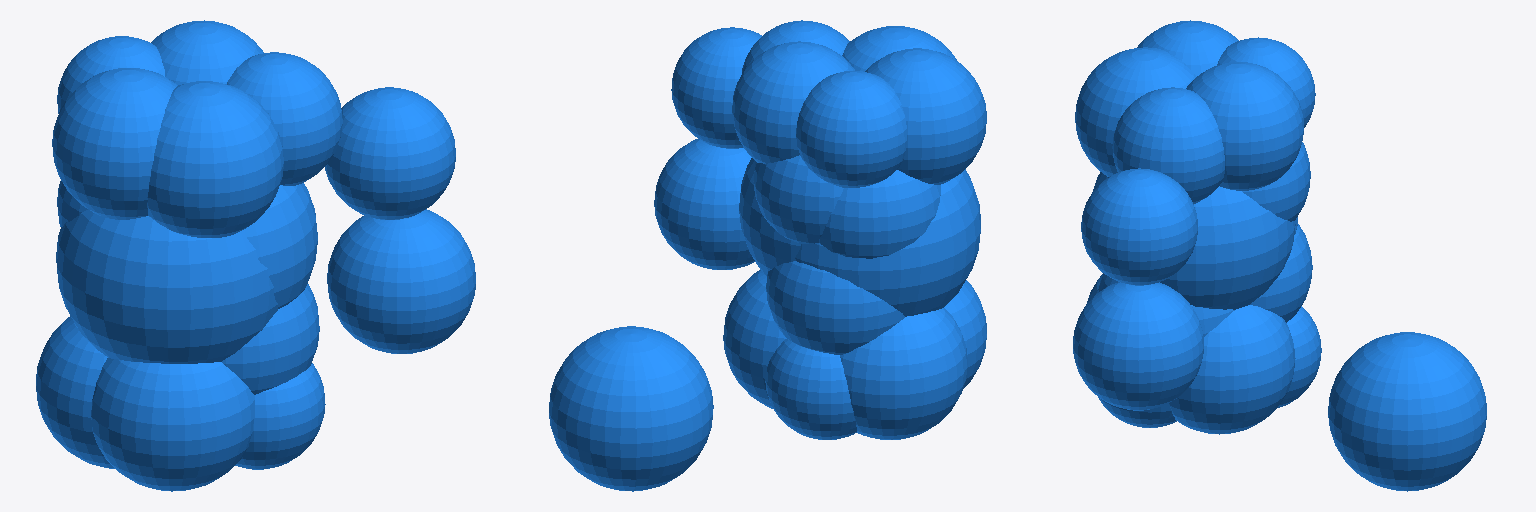
The robot description file, URDF, robot "frother":
<?xml version="1.0"?>
<robot name="frother">
  <!-- morphit:centroid -0.023923 -0.025105 0.073169 -->
  <material name="default_color">
    <color rgba="0.200000 0.600000 1.000000 1.000000"/>
  </material>
  <link name="base">
    <inertial>
      <mass value="0.001000"/>
      <inertia ixx="0.000010" ixy="0.0" ixz="0.0" iyy="0.000010" iyz="0.0" izz="0.000010"/>
    </inertial>
  </link>
  <link name="sphere_0">
    <visual>
      <origin xyz="0 0 0" rpy="0 0 0"/>
      <geometry><sphere radius="0.026608"/></geometry>
      <material name="default_color"/>
    </visual>
    <collision>
      <origin xyz="0 0 0" rpy="0 0 0"/>
      <geometry><sphere radius="0.026608"/></geometry>
    </collision>
    <inertial>
      <mass value="0.036100"/>
      <inertia ixx="0.000010" ixy="0.0" ixz="0.0" iyy="0.000010" iyz="0.0" izz="0.000010"/>
    </inertial>
  </link>
  <joint name="sphere_0_fixed" type="fixed">
    <parent link="base"/>
    <child link="sphere_0"/>
    <origin xyz="0.063668 -0.028502 -0.015049" rpy="0 0 0"/>
  </joint>
  <link name="sphere_1">
    <visual>
      <origin xyz="0 0 0" rpy="0 0 0"/>
      <geometry><sphere radius="0.023683"/></geometry>
      <material name="default_color"/>
    </visual>
    <collision>
      <origin xyz="0 0 0" rpy="0 0 0"/>
      <geometry><sphere radius="0.023683"/></geometry>
    </collision>
    <inertial>
      <mass value="0.025455"/>
      <inertia ixx="0.000006" ixy="0.0" ixz="0.0" iyy="0.000006" iyz="0.0" izz="0.000006"/>
    </inertial>
  </link>
  <joint name="sphere_1_fixed" type="fixed">
    <parent link="base"/>
    <child link="sphere_1"/>
    <origin xyz="0.059023 -0.028024 0.035209" rpy="0 0 0"/>
  </joint>
  <link name="sphere_2">
    <visual>
      <origin xyz="0 0 0" rpy="0 0 0"/>
      <geometry><sphere radius="0.030869"/></geometry>
      <material name="default_color"/>
    </visual>
    <collision>
      <origin xyz="0 0 0" rpy="0 0 0"/>
      <geometry><sphere radius="0.030869"/></geometry>
    </collision>
    <inertial>
      <mass value="0.056365"/>
      <inertia ixx="0.000021" ixy="0.0" ixz="0.0" iyy="0.000021" iyz="0.0" izz="0.000021"/>
    </inertial>
  </link>
  <joint name="sphere_2_fixed" type="fixed">
    <parent link="base"/>
    <child link="sphere_2"/>
    <origin xyz="-0.024912 -0.019784 -0.046992" rpy="0 0 0"/>
  </joint>
  <link name="sphere_3">
    <visual>
      <origin xyz="0 0 0" rpy="0 0 0"/>
      <geometry><sphere radius="0.030279"/></geometry>
      <material name="default_color"/>
    </visual>
    <collision>
      <origin xyz="0 0 0" rpy="0 0 0"/>
      <geometry><sphere radius="0.030279"/></geometry>
    </collision>
    <inertial>
      <mass value="0.053197"/>
      <inertia ixx="0.000020" ixy="0.0" ixz="0.0" iyy="0.000020" iyz="0.0" izz="0.000020"/>
    </inertial>
  </link>
  <joint name="sphere_3_fixed" type="fixed">
    <parent link="base"/>
    <child link="sphere_3"/>
    <origin xyz="-0.031767 0.006055 -0.047814" rpy="0 0 0"/>
  </joint>
  <link name="sphere_4">
    <visual>
      <origin xyz="0 0 0" rpy="0 0 0"/>
      <geometry><sphere radius="0.024025"/></geometry>
      <material name="default_color"/>
    </visual>
    <collision>
      <origin xyz="0 0 0" rpy="0 0 0"/>
      <geometry><sphere radius="0.024025"/></geometry>
    </collision>
    <inertial>
      <mass value="0.026573"/>
      <inertia ixx="0.000006" ixy="0.0" ixz="0.0" iyy="0.000006" iyz="0.0" izz="0.000006"/>
    </inertial>
  </link>
  <joint name="sphere_4_fixed" type="fixed">
    <parent link="base"/>
    <child link="sphere_4"/>
    <origin xyz="0.007396 -0.023881 -0.051905" rpy="0 0 0"/>
  </joint>
  <link name="sphere_5">
    <visual>
      <origin xyz="0 0 0" rpy="0 0 0"/>
      <geometry><sphere radius="0.024367"/></geometry>
      <material name="default_color"/>
    </visual>
    <collision>
      <origin xyz="0 0 0" rpy="0 0 0"/>
      <geometry><sphere radius="0.024367"/></geometry>
    </collision>
    <inertial>
      <mass value="0.027724"/>
      <inertia ixx="0.000007" ixy="0.0" ixz="0.0" iyy="0.000007" iyz="0.0" izz="0.000007"/>
    </inertial>
  </link>
  <joint name="sphere_5_fixed" type="fixed">
    <parent link="base"/>
    <child link="sphere_5"/>
    <origin xyz="0.019407 -0.014698 0.052057" rpy="0 0 0"/>
  </joint>
  <link name="sphere_6">
    <visual>
      <origin xyz="0 0 0" rpy="0 0 0"/>
      <geometry><sphere radius="0.027384"/></geometry>
      <material name="default_color"/>
    </visual>
    <collision>
      <origin xyz="0 0 0" rpy="0 0 0"/>
      <geometry><sphere radius="0.027384"/></geometry>
    </collision>
    <inertial>
      <mass value="0.039350"/>
      <inertia ixx="0.000012" ixy="0.0" ixz="0.0" iyy="0.000012" iyz="0.0" izz="0.000012"/>
    </inertial>
  </link>
  <joint name="sphere_6_fixed" type="fixed">
    <parent link="base"/>
    <child link="sphere_6"/>
    <origin xyz="-0.036044 -0.007331 0.052674" rpy="0 0 0"/>
  </joint>
  <link name="sphere_7">
    <visual>
      <origin xyz="0 0 0" rpy="0 0 0"/>
      <geometry><sphere radius="0.028354"/></geometry>
      <material name="default_color"/>
    </visual>
    <collision>
      <origin xyz="0 0 0" rpy="0 0 0"/>
      <geometry><sphere radius="0.028354"/></geometry>
    </collision>
    <inertial>
      <mass value="0.043680"/>
      <inertia ixx="0.000014" ixy="0.0" ixz="0.0" iyy="0.000014" iyz="0.0" izz="0.000014"/>
    </inertial>
  </link>
  <joint name="sphere_7_fixed" type="fixed">
    <parent link="base"/>
    <child link="sphere_7"/>
    <origin xyz="-0.015717 -0.025820 0.049101" rpy="0 0 0"/>
  </joint>
  <link name="sphere_8">
    <visual>
      <origin xyz="0 0 0" rpy="0 0 0"/>
      <geometry><sphere radius="0.026508"/></geometry>
      <material name="default_color"/>
    </visual>
    <collision>
      <origin xyz="0 0 0" rpy="0 0 0"/>
      <geometry><sphere radius="0.026508"/></geometry>
    </collision>
    <inertial>
      <mass value="0.035695"/>
      <inertia ixx="0.000010" ixy="0.0" ixz="0.0" iyy="0.000010" iyz="0.0" izz="0.000010"/>
    </inertial>
  </link>
  <joint name="sphere_8_fixed" type="fixed">
    <parent link="base"/>
    <child link="sphere_8"/>
    <origin xyz="0.005501 0.011910 0.054670" rpy="0 0 0"/>
  </joint>
  <link name="sphere_9">
    <visual>
      <origin xyz="0 0 0" rpy="0 0 0"/>
      <geometry><sphere radius="0.042454"/></geometry>
      <material name="default_color"/>
    </visual>
    <collision>
      <origin xyz="0 0 0" rpy="0 0 0"/>
      <geometry><sphere radius="0.042454"/></geometry>
    </collision>
    <inertial>
      <mass value="0.146627"/>
      <inertia ixx="0.000106" ixy="0.0" ixz="0.0" iyy="0.000106" iyz="0.0" izz="0.000106"/>
    </inertial>
  </link>
  <joint name="sphere_9_fixed" type="fixed">
    <parent link="base"/>
    <child link="sphere_9"/>
    <origin xyz="-0.016621 -0.006465 0.002579" rpy="0 0 0"/>
  </joint>
  <link name="sphere_10">
    <visual>
      <origin xyz="0 0 0" rpy="0 0 0"/>
      <geometry><sphere radius="0.023108"/></geometry>
      <material name="default_color"/>
    </visual>
    <collision>
      <origin xyz="0 0 0" rpy="0 0 0"/>
      <geometry><sphere radius="0.023108"/></geometry>
    </collision>
    <inertial>
      <mass value="0.023647"/>
      <inertia ixx="0.000005" ixy="0.0" ixz="0.0" iyy="0.000005" iyz="0.0" izz="0.000005"/>
    </inertial>
  </link>
  <joint name="sphere_10_fixed" type="fixed">
    <parent link="base"/>
    <child link="sphere_10"/>
    <origin xyz="-0.023247 0.019860 0.055790" rpy="0 0 0"/>
  </joint>
  <link name="sphere_11">
    <visual>
      <origin xyz="0 0 0" rpy="0 0 0"/>
      <geometry><sphere radius="0.040238"/></geometry>
      <material name="default_color"/>
    </visual>
    <collision>
      <origin xyz="0 0 0" rpy="0 0 0"/>
      <geometry><sphere radius="0.040238"/></geometry>
    </collision>
    <inertial>
      <mass value="0.124845"/>
      <inertia ixx="0.000081" ixy="0.0" ixz="0.0" iyy="0.000081" iyz="0.0" izz="0.000081"/>
    </inertial>
  </link>
  <joint name="sphere_11_fixed" type="fixed">
    <parent link="base"/>
    <child link="sphere_11"/>
    <origin xyz="-0.003591 -0.005231 0.008151" rpy="0 0 0"/>
  </joint>
  <link name="sphere_12">
    <visual>
      <origin xyz="0 0 0" rpy="0 0 0"/>
      <geometry><sphere radius="0.032196"/></geometry>
      <material name="default_color"/>
    </visual>
    <collision>
      <origin xyz="0 0 0" rpy="0 0 0"/>
      <geometry><sphere radius="0.032196"/></geometry>
    </collision>
    <inertial>
      <mass value="0.063955"/>
      <inertia ixx="0.000027" ixy="0.0" ixz="0.0" iyy="0.000027" iyz="0.0" izz="0.000027"/>
    </inertial>
  </link>
  <joint name="sphere_12_fixed" type="fixed">
    <parent link="base"/>
    <child link="sphere_12"/>
    <origin xyz="0.041977 0.080093 -0.054973" rpy="0 0 0"/>
  </joint>
  <link name="sphere_13">
    <visual>
      <origin xyz="0 0 0" rpy="0 0 0"/>
      <geometry><sphere radius="0.030633"/></geometry>
      <material name="default_color"/>
    </visual>
    <collision>
      <origin xyz="0 0 0" rpy="0 0 0"/>
      <geometry><sphere radius="0.030633"/></geometry>
    </collision>
    <inertial>
      <mass value="0.055083"/>
      <inertia ixx="0.000021" ixy="0.0" ixz="0.0" iyy="0.000021" iyz="0.0" izz="0.000021"/>
    </inertial>
  </link>
  <joint name="sphere_13_fixed" type="fixed">
    <parent link="base"/>
    <child link="sphere_13"/>
    <origin xyz="0.009102 0.004237 -0.046647" rpy="0 0 0"/>
  </joint>
  <link name="sphere_14">
    <visual>
      <origin xyz="0 0 0" rpy="0 0 0"/>
      <geometry><sphere radius="0.029883"/></geometry>
      <material name="default_color"/>
    </visual>
    <collision>
      <origin xyz="0 0 0" rpy="0 0 0"/>
      <geometry><sphere radius="0.029883"/></geometry>
    </collision>
    <inertial>
      <mass value="0.051135"/>
      <inertia ixx="0.000018" ixy="0.0" ixz="0.0" iyy="0.000018" iyz="0.0" izz="0.000018"/>
    </inertial>
  </link>
  <joint name="sphere_14_fixed" type="fixed">
    <parent link="base"/>
    <child link="sphere_14"/>
    <origin xyz="-0.022715 0.007288 0.020629" rpy="0 0 0"/>
  </joint>
  <link name="sphere_15">
    <visual>
      <origin xyz="0 0 0" rpy="0 0 0"/>
      <geometry><sphere radius="0.024251"/></geometry>
      <material name="default_color"/>
    </visual>
    <collision>
      <origin xyz="0 0 0" rpy="0 0 0"/>
      <geometry><sphere radius="0.024251"/></geometry>
    </collision>
    <inertial>
      <mass value="0.027331"/>
      <inertia ixx="0.000006" ixy="0.0" ixz="0.0" iyy="0.000006" iyz="0.0" izz="0.000006"/>
    </inertial>
  </link>
  <joint name="sphere_15_fixed" type="fixed">
    <parent link="base"/>
    <child link="sphere_15"/>
    <origin xyz="-0.012187 0.021184 -0.052909" rpy="0 0 0"/>
  </joint>
  <link name="sphere_16">
    <visual>
      <origin xyz="0 0 0" rpy="0 0 0"/>
      <geometry><sphere radius="0.029513"/></geometry>
      <material name="default_color"/>
    </visual>
    <collision>
      <origin xyz="0 0 0" rpy="0 0 0"/>
      <geometry><sphere radius="0.029513"/></geometry>
    </collision>
    <inertial>
      <mass value="0.049263"/>
      <inertia ixx="0.000017" ixy="0.0" ixz="0.0" iyy="0.000017" iyz="0.0" izz="0.000017"/>
    </inertial>
  </link>
  <joint name="sphere_16_fixed" type="fixed">
    <parent link="base"/>
    <child link="sphere_16"/>
    <origin xyz="-0.007435 0.011542 0.027397" rpy="0 0 0"/>
  </joint>
  <link name="sphere_17">
    <visual>
      <origin xyz="0 0 0" rpy="0 0 0"/>
      <geometry><sphere radius="0.031481"/></geometry>
      <material name="default_color"/>
    </visual>
    <collision>
      <origin xyz="0 0 0" rpy="0 0 0"/>
      <geometry><sphere radius="0.031481"/></geometry>
    </collision>
    <inertial>
      <mass value="0.059787"/>
      <inertia ixx="0.000024" ixy="0.0" ixz="0.0" iyy="0.000024" iyz="0.0" izz="0.000024"/>
    </inertial>
  </link>
  <joint name="sphere_17_fixed" type="fixed">
    <parent link="base"/>
    <child link="sphere_17"/>
    <origin xyz="0.002266 -0.013784 -0.025156" rpy="0 0 0"/>
  </joint>
  <link name="sphere_18">
    <visual>
      <origin xyz="0 0 0" rpy="0 0 0"/>
      <geometry><sphere radius="0.030466"/></geometry>
      <material name="default_color"/>
    </visual>
    <collision>
      <origin xyz="0 0 0" rpy="0 0 0"/>
      <geometry><sphere radius="0.030466"/></geometry>
    </collision>
    <inertial>
      <mass value="0.054189"/>
      <inertia ixx="0.000020" ixy="0.0" ixz="0.0" iyy="0.000020" iyz="0.0" izz="0.000020"/>
    </inertial>
  </link>
  <joint name="sphere_18_fixed" type="fixed">
    <parent link="base"/>
    <child link="sphere_18"/>
    <origin xyz="-0.014104 0.011350 -0.016812" rpy="0 0 0"/>
  </joint>
</robot>

--- Render facts (derived) ---
3 views of the same robot in one strip: view 1: azimuth 30°, elevation 25°; view 2: azimuth 150°, elevation 25°; view 3: azimuth 270°, elevation 25° (orthographic).
Model frother with 20 links and 19 joints (19 fixed), rooted at base, posed all joints at 0.
Links seen in each view (by area): view 1: sphere_9, sphere_2, sphere_7, sphere_0, sphere_6, sphere_1, sphere_5, sphere_3, sphere_11, sphere_4, sphere_17, sphere_8 (+2 smaller); view 2: sphere_12, sphere_3, sphere_9, sphere_10, sphere_6, sphere_0, sphere_8, sphere_18, sphere_14, sphere_1, sphere_15, sphere_16 (+5 smaller); view 3: sphere_12, sphere_0, sphere_13, sphere_1, sphere_11, sphere_8, sphere_5, sphere_7, sphere_10, sphere_6, sphere_18, sphere_16 (+3 smaller).
Link boxes in pixels (box(x1,y1,x2,y2)): sphere_9: box(56, 209, 277, 363); sphere_2: box(91, 358, 254, 491); sphere_7: box(147, 81, 283, 237); sphere_0: box(327, 209, 475, 353); sphere_6: box(52, 68, 177, 219); sphere_1: box(325, 87, 455, 219); sphere_5: box(227, 52, 342, 185); sphere_3: box(36, 316, 114, 468); sphere_11: box(244, 183, 317, 308); sphere_4: box(235, 363, 325, 469); sphere_17: box(222, 284, 319, 394); sphere_8: box(151, 20, 263, 84); sphere_12: box(549, 326, 713, 491); sphere_3: box(840, 308, 967, 439); sphere_9: box(795, 169, 980, 316); sphere_10: box(796, 71, 906, 187); sphere_6: box(865, 48, 986, 184); sphere_0: box(654, 139, 754, 269); sphere_8: box(732, 41, 854, 163); sphere_18: box(766, 261, 904, 354); sphere_14: box(819, 170, 940, 258); sphere_1: box(671, 27, 761, 148); sphere_15: box(765, 339, 856, 439); sphere_16: box(753, 155, 843, 243); sphere_12: box(1328, 332, 1486, 491); sphere_0: box(1073, 282, 1203, 410); sphere_13: box(1169, 305, 1295, 434); sphere_1: box(1081, 168, 1197, 285); sphere_11: box(1108, 177, 1295, 309); sphere_8: box(1186, 62, 1303, 190); sphere_5: box(1112, 87, 1224, 203); sphere_7: box(1075, 47, 1195, 176); sphere_10: box(1217, 37, 1315, 127); sphere_6: box(1137, 20, 1238, 76); sphere_18: box(1250, 224, 1312, 322); sphere_16: box(1242, 142, 1310, 221).
Size in the robot's own frame: 0.1537 by 0.1674 by 0.1683 metres.
Geometry: primitives only (box / cylinder / sphere), no mesh files.
